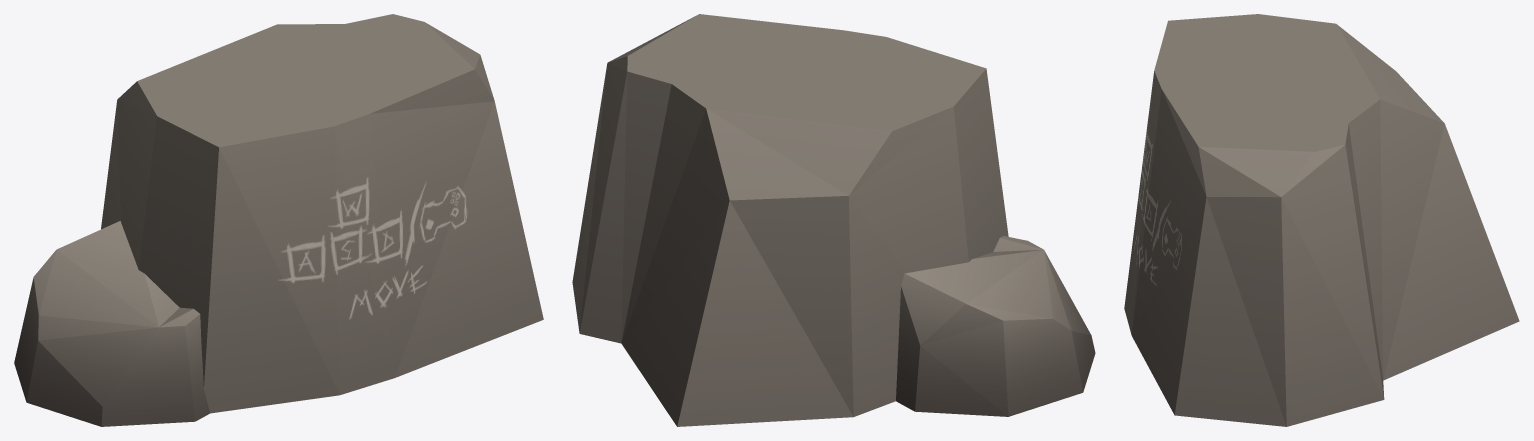
The model's file is move_tuto.fbx.
3 views of the same model, side by side, from view 1: azimuth 30°, elevation 25°; view 2: azimuth 150°, elevation 25°; view 3: azimuth 270°, elevation 25° (orthographic). The views are drawn at different scales.
Visible parts, largest first — view 1: Cylinder.001; view 2: Cylinder.001; view 3: Cylinder.001.
Boxes of the visible parts, x1=… form: Cylinder.001: x1=14, y1=14, x2=543, y2=426; Cylinder.001: x1=572, y1=14, x2=1095, y2=426; Cylinder.001: x1=1124, y1=14, x2=1519, y2=426.
Bounding box in the file's own units: 409 × 200 × 296.
